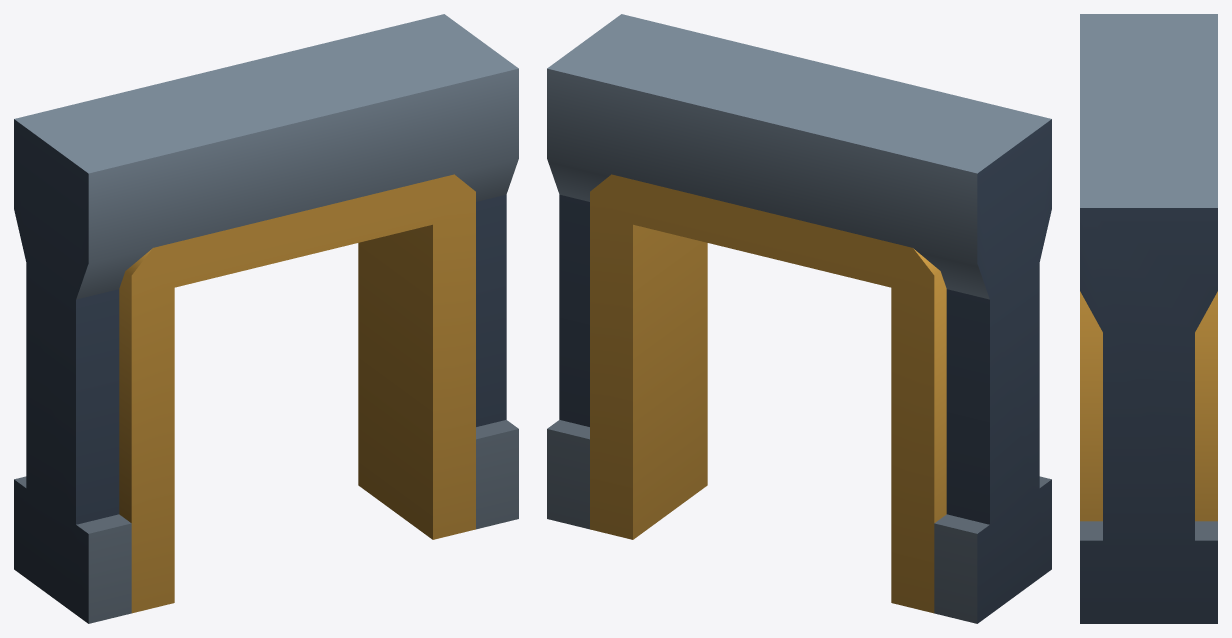
The model's file is wall-door-wide.obj.
3 renders of one model, left to right at view 1: azimuth 30°, elevation 25°; view 2: azimuth 150°, elevation 25°; view 3: azimuth 270°, elevation 25°, orthographic. The views are drawn at different scales.
Parts seen in each view (by area): view 1: wall-door-wide; view 2: wall-door-wide; view 3: wall-door-wide.
Part boxes in pixels (bbox=[...]): wall-door-wide: bbox=[14, 14, 518, 623]; wall-door-wide: bbox=[547, 14, 1051, 623]; wall-door-wide: bbox=[1080, 14, 1217, 623].
Size of the model in its own units: 1 by 1 by 0.3.
